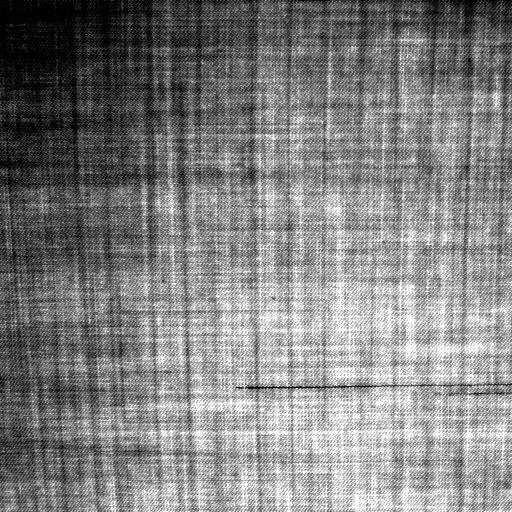fabric_thick_weft: (232, 381, 512, 391), (436, 390, 512, 400)
